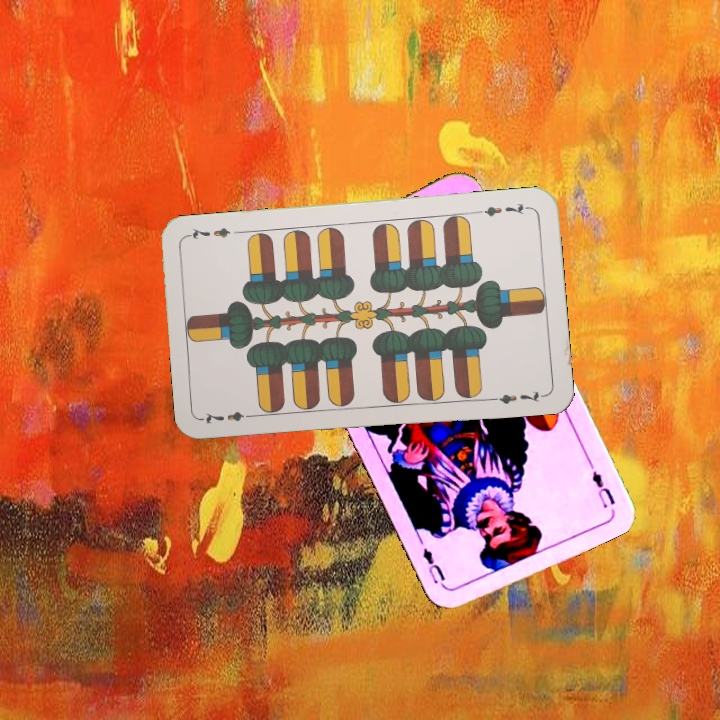E7: (199, 407, 259, 427), (473, 199, 532, 219)
EU: (583, 455, 618, 511)
